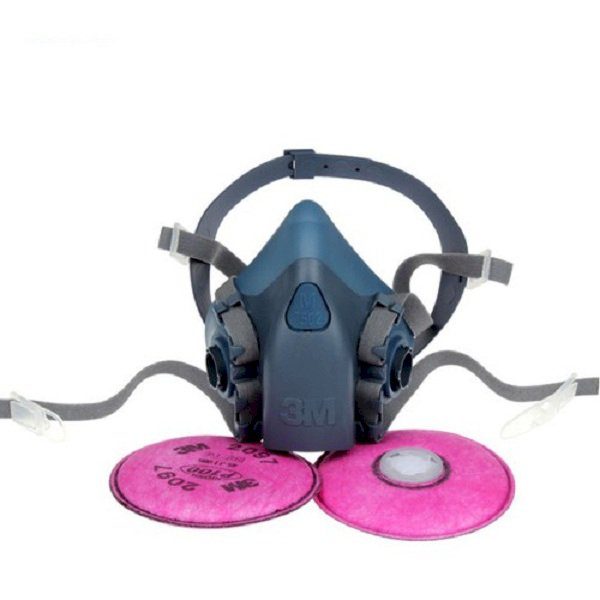3M: (276, 386, 341, 433), (218, 470, 263, 497), (167, 439, 216, 457)
